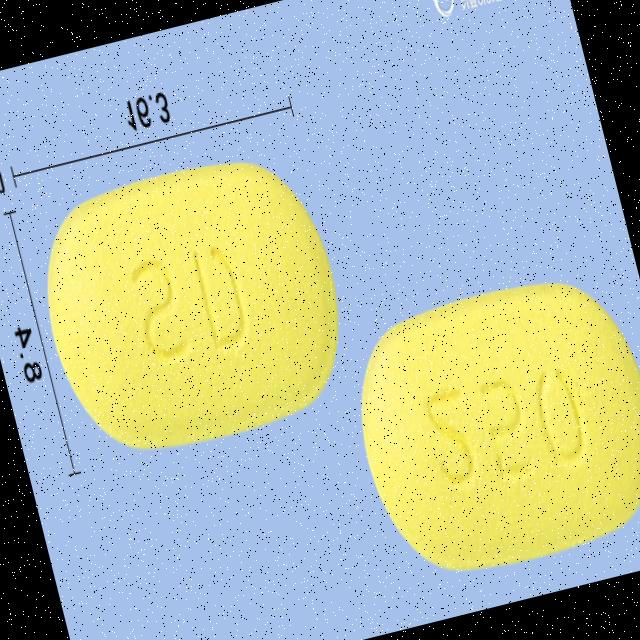Clabio - 500mg: (17, 130, 370, 477), (332, 253, 640, 594)
